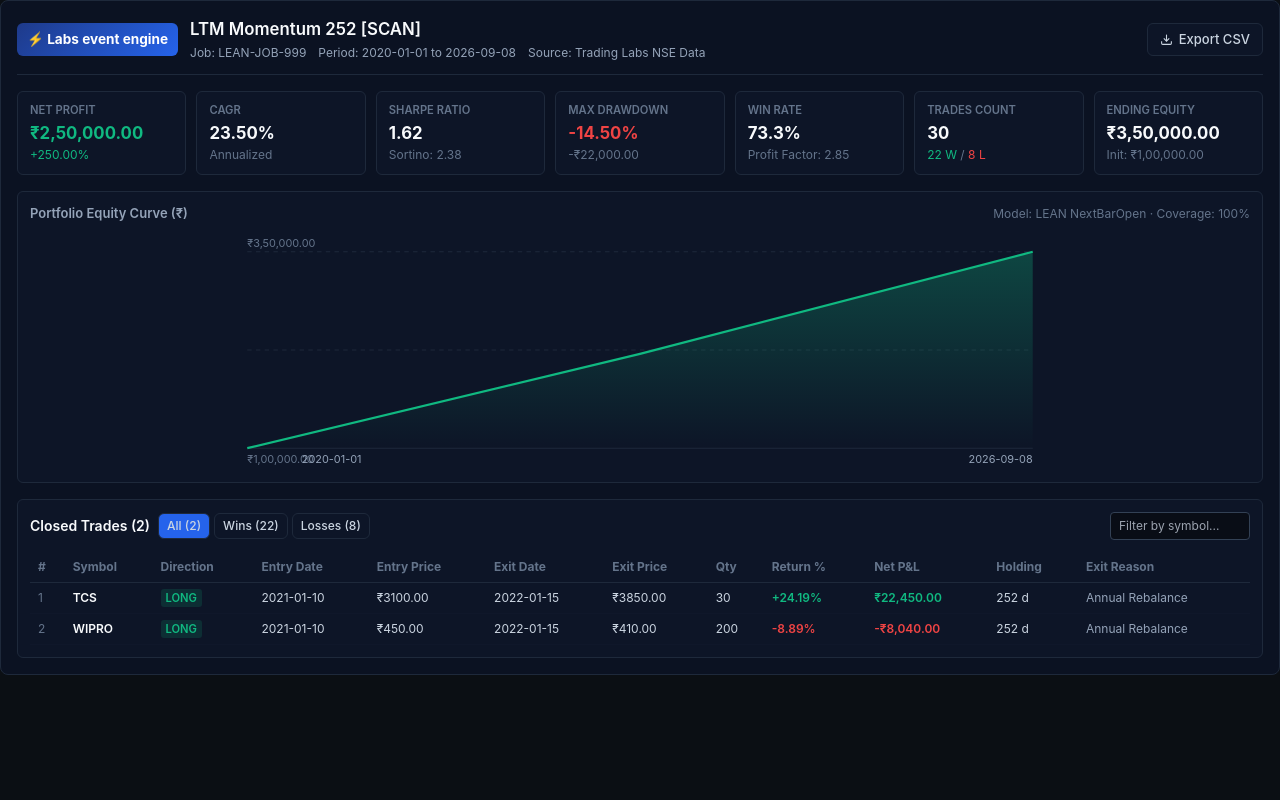
Test: IndicatorLeanBacktestView › filters trades by outcome (Winners vs Losers)
The image size is (1280, 800).
expect the text "TCS" is shown: met, box [65,582,152,613]
expect the text "WIPRO" is shown: met, box [65,613,152,644]
// Click "Wins" tab
What coordinates should you click on to do the following:
click the button "Wins (22)"
I would click on:
 (251, 526)
Its box is [214,513,288,539].
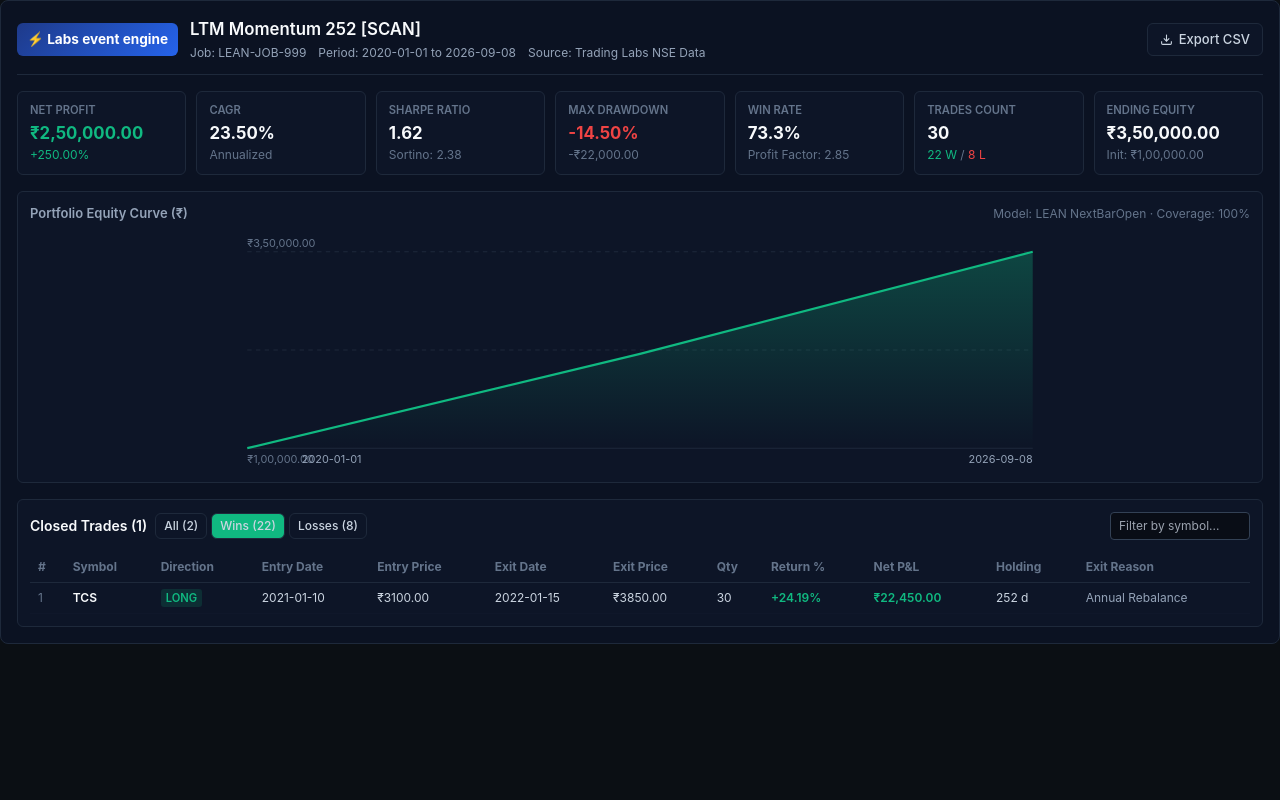
expect the text "TCS" is shown: met, box [65,582,153,613]
expect the text "WIPRO" is gone: met
// Click "Losses" tab
What coordinates should you click on to do the following:
click the button "Losses (8)"
I would click on:
 (328, 526)
Its box is [289,513,367,539].
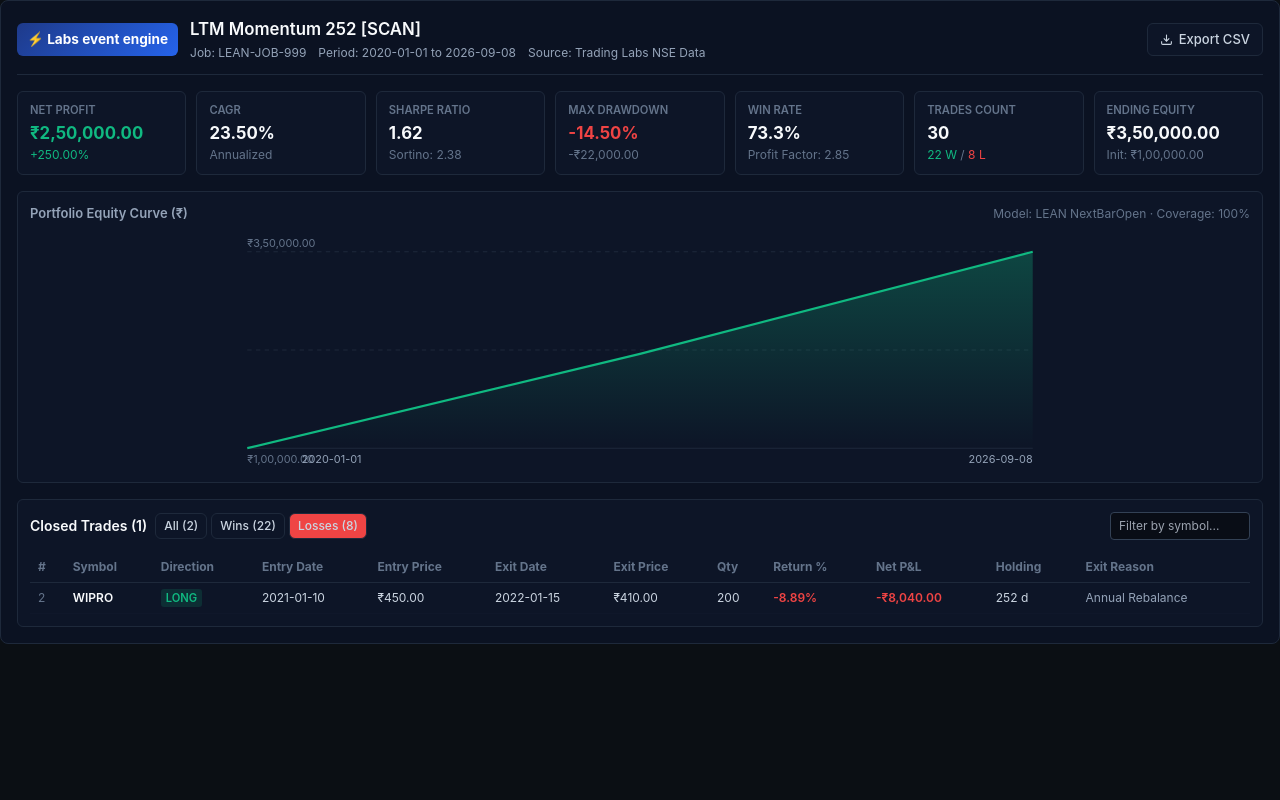
expect the text "TCS" is gone: met
expect the text "WIPRO" is shown: met, box [65,582,153,613]
